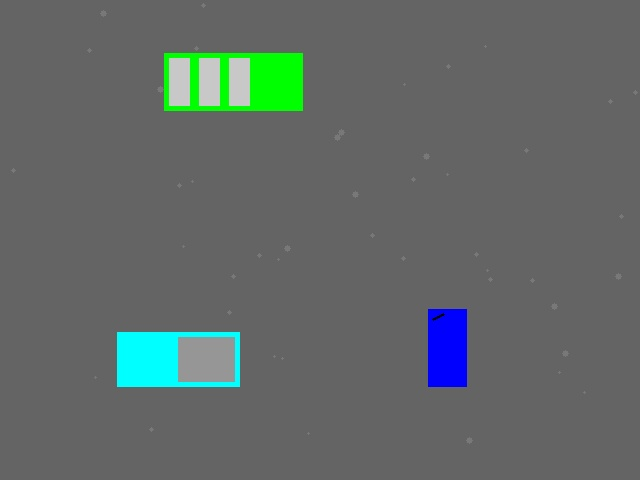bus: (164, 53, 302, 110)
motorcycle: (428, 309, 466, 386)
truck: (117, 332, 239, 386)
